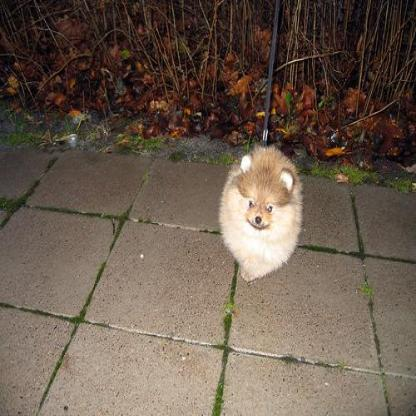Pomeranian: (218, 145, 303, 281)
